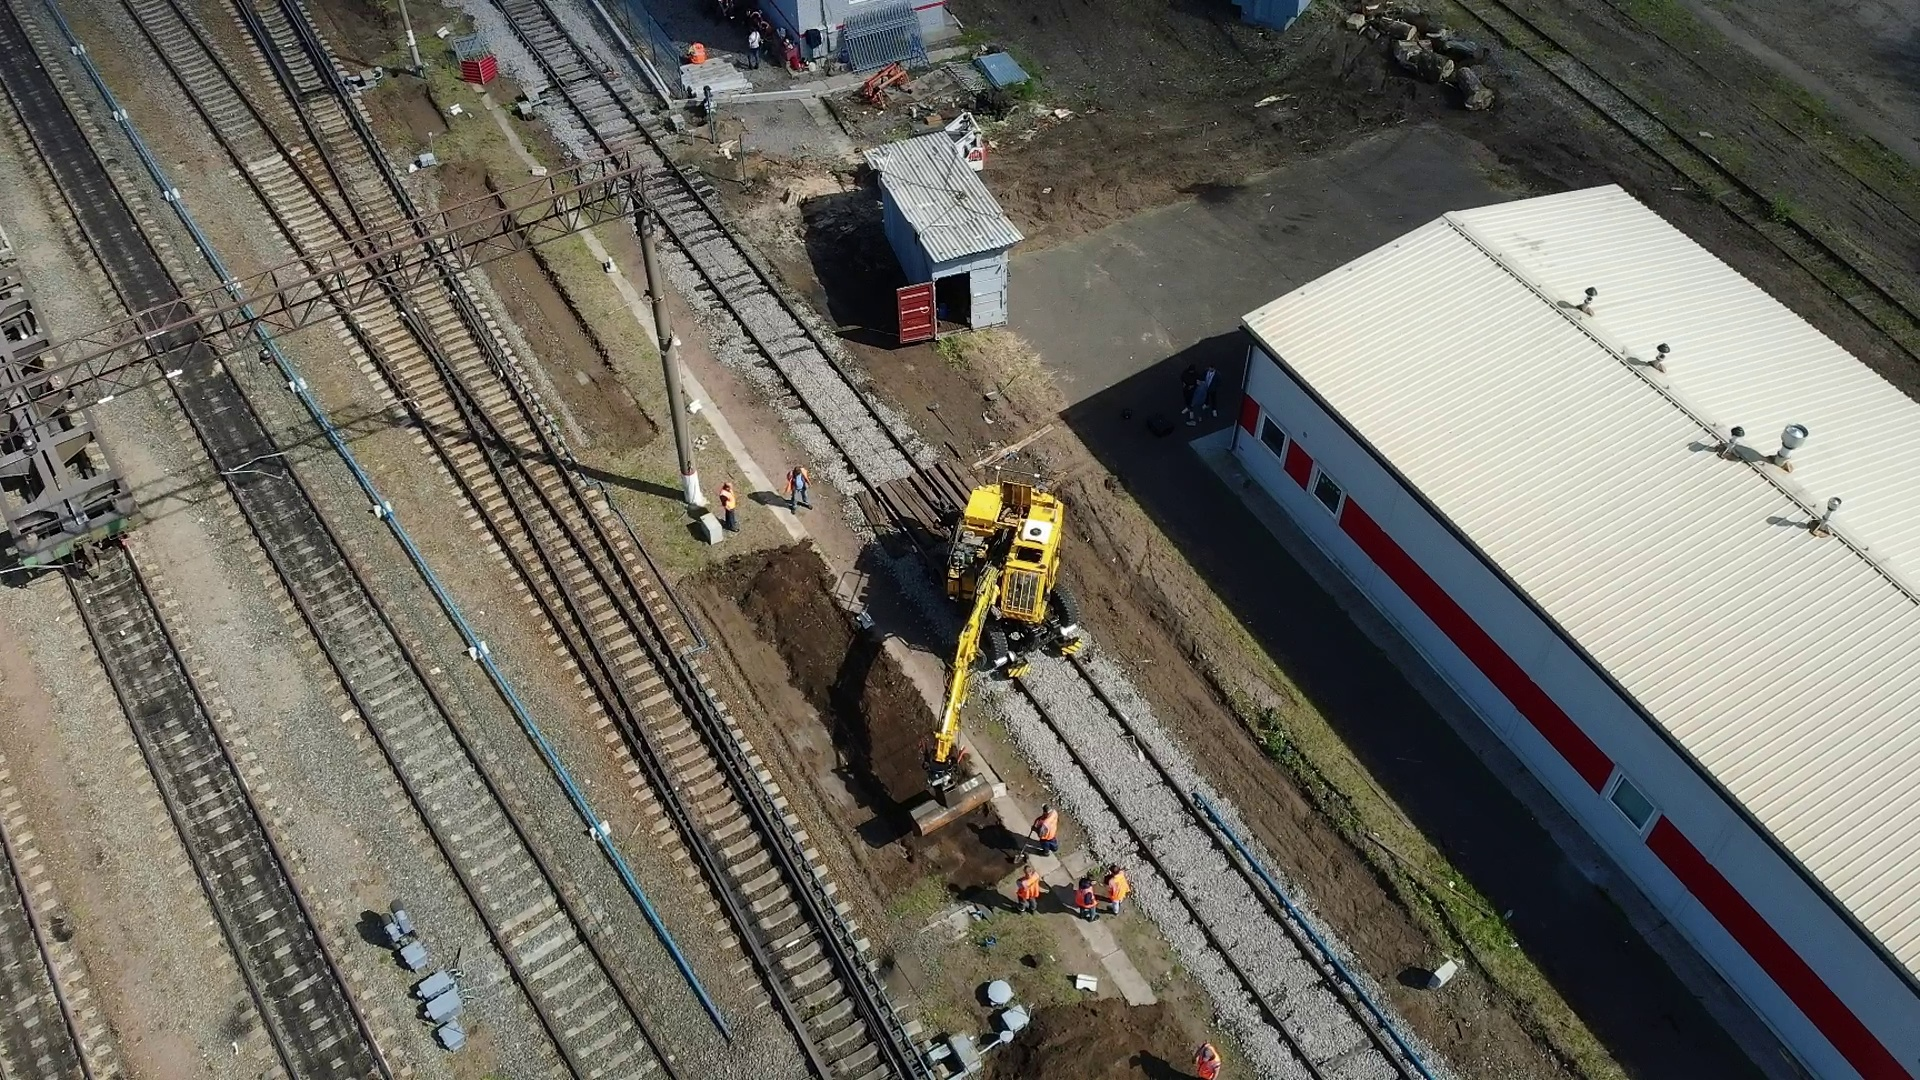kjtv: (934, 467, 1089, 673)
